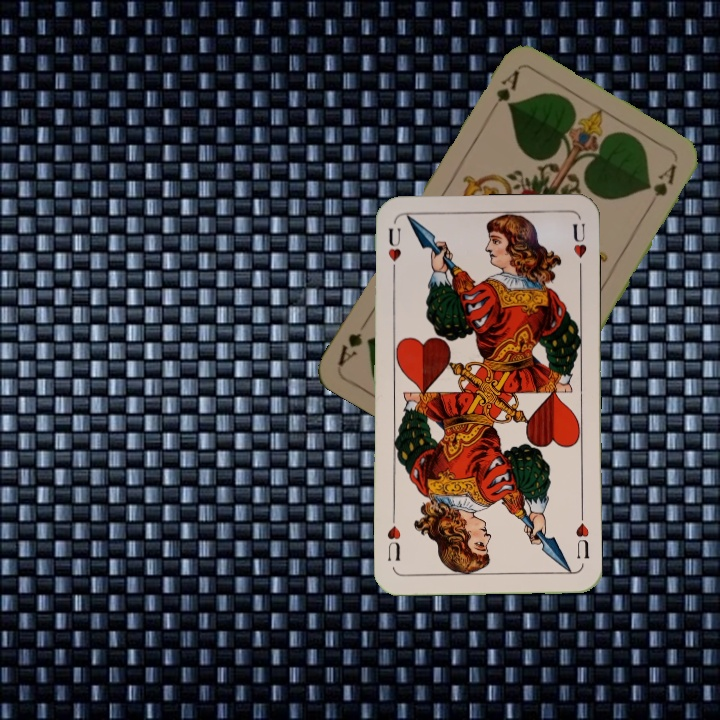GA: (484, 66, 522, 117)
HU: (383, 224, 404, 279), (571, 509, 592, 562)
